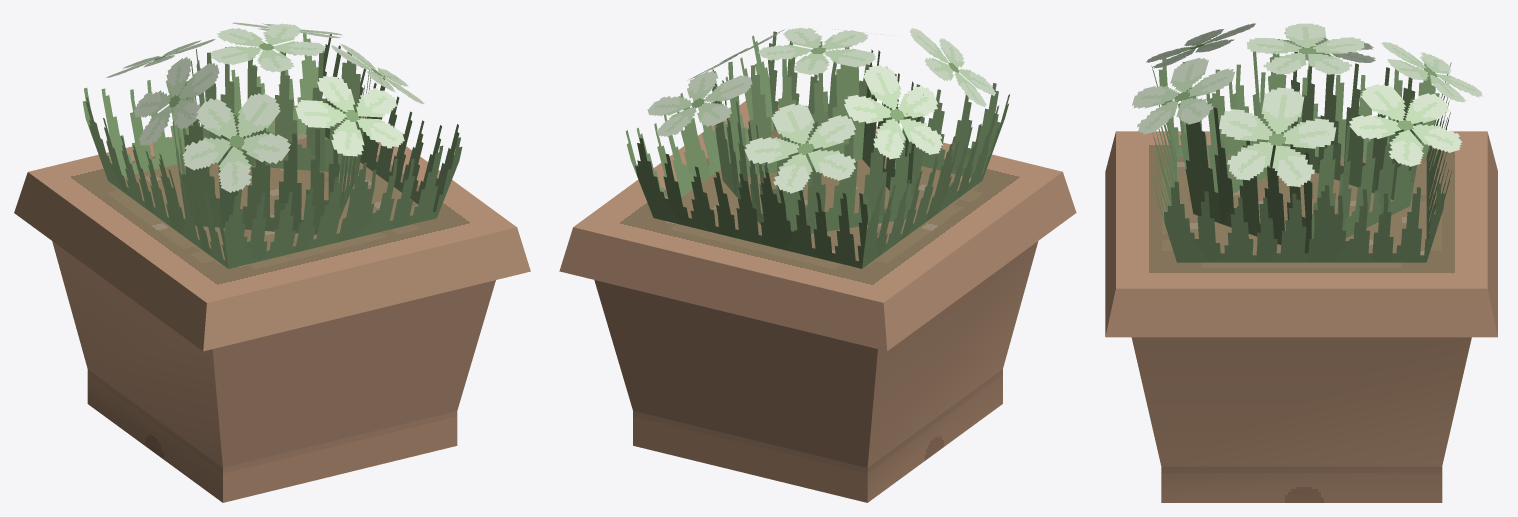
The model's file is SilentRunning.glb.
3 renders of one model, left to right at view 1: azimuth 30°, elevation 25°; view 2: azimuth 150°, elevation 25°; view 3: azimuth 270°, elevation 25°, orthographic. The views are drawn at different scales.
Visible parts, largest first — view 1: part_0; view 2: part_0; view 3: part_0.
Part boxes in pixels (left/top/right/bottom): part_0: left=14, top=22, right=530, bottom=502; part_0: left=559, top=27, right=1076, bottom=502; part_0: left=1105, top=23, right=1497, bottom=502.
Size of the model in its own units: 0.1883 by 0.21 by 0.1909.
Materials: 1 (1 with a texture image).
